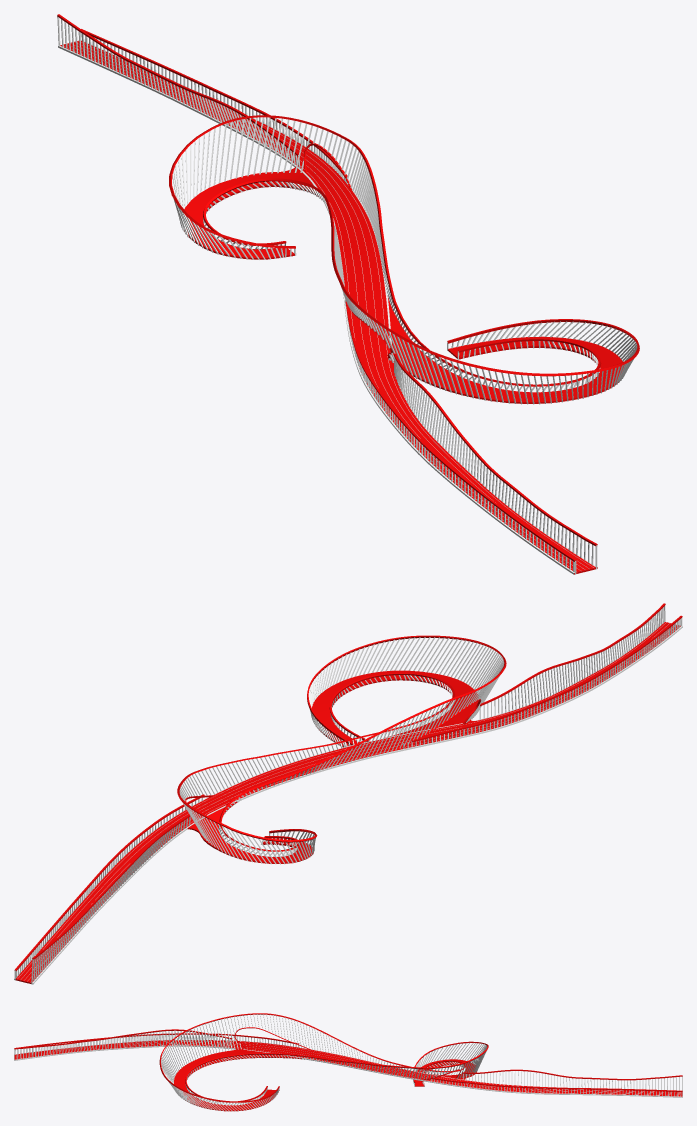
The model's file is overpass.gltf.
3 renders of one model, top to bottom at view 1: azimuth 30°, elevation 25°; view 2: azimuth 150°, elevation 25°; view 3: azimuth 270°, elevation 25°, orthographic. The views are drawn at different scales.
Parts seen in each view (by area): view 1: 立交桥; view 2: 立交桥; view 3: 立交桥.
Boxes of the visible parts, <box> form: 立交桥: <box>57,14,639,574</box>; 立交桥: <box>14,603,682,984</box>; 立交桥: <box>14,1013,682,1111</box>.
Size of the model in its own units: 12.29 by 4.32 by 52.66.
